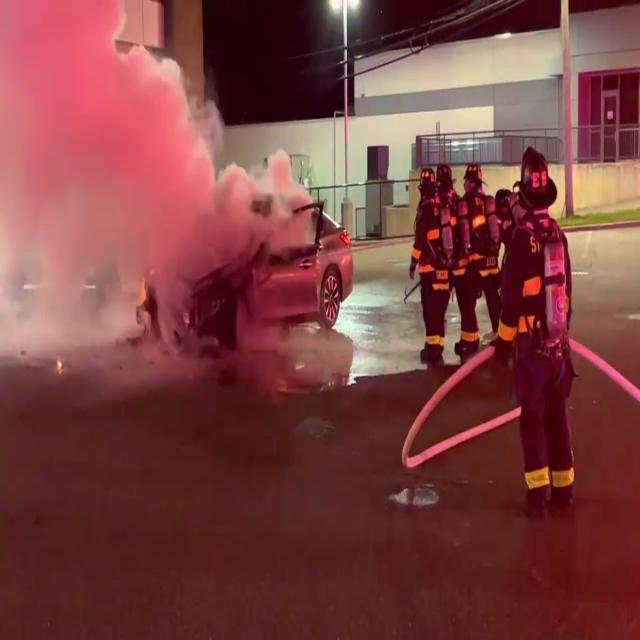Smoke: (0, 0, 259, 385)
